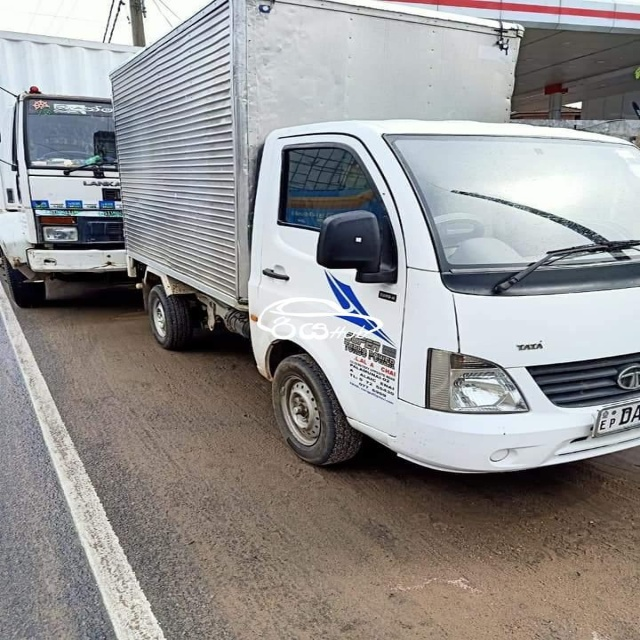Truck: (107, 1, 640, 476), (2, 30, 158, 310)
